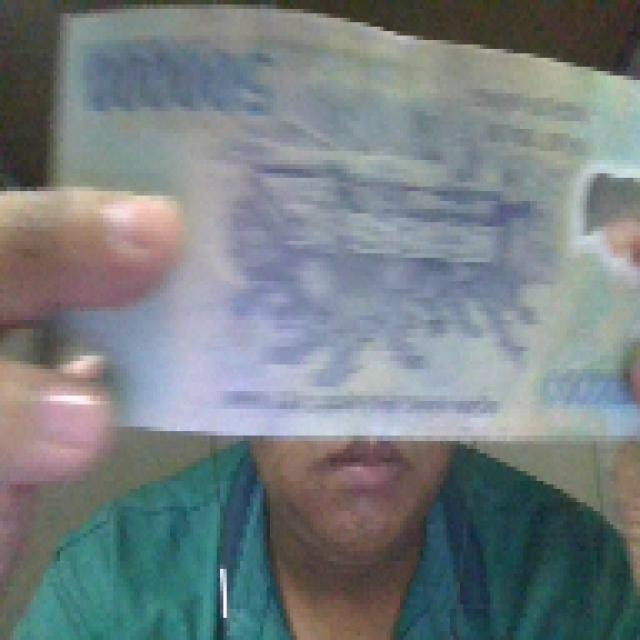500 000 VND: (43, 0, 636, 444)
